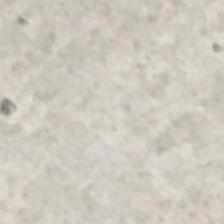Non_Crack: (28, 38, 190, 195)
